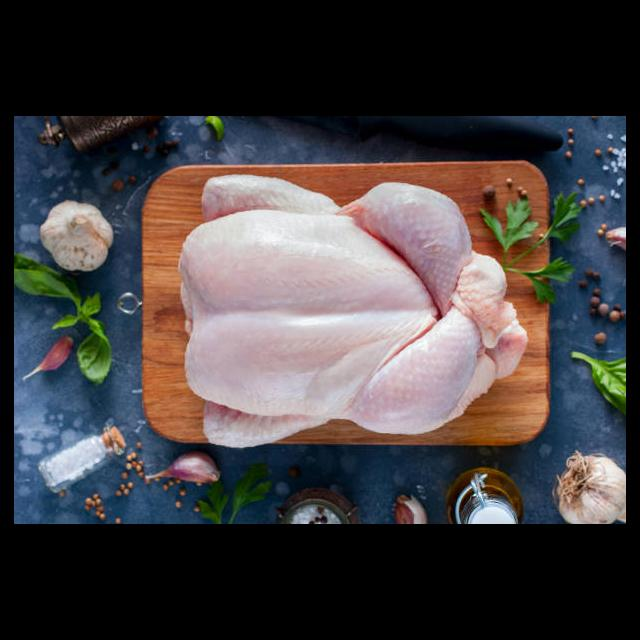chicken: (180, 170, 529, 450)
